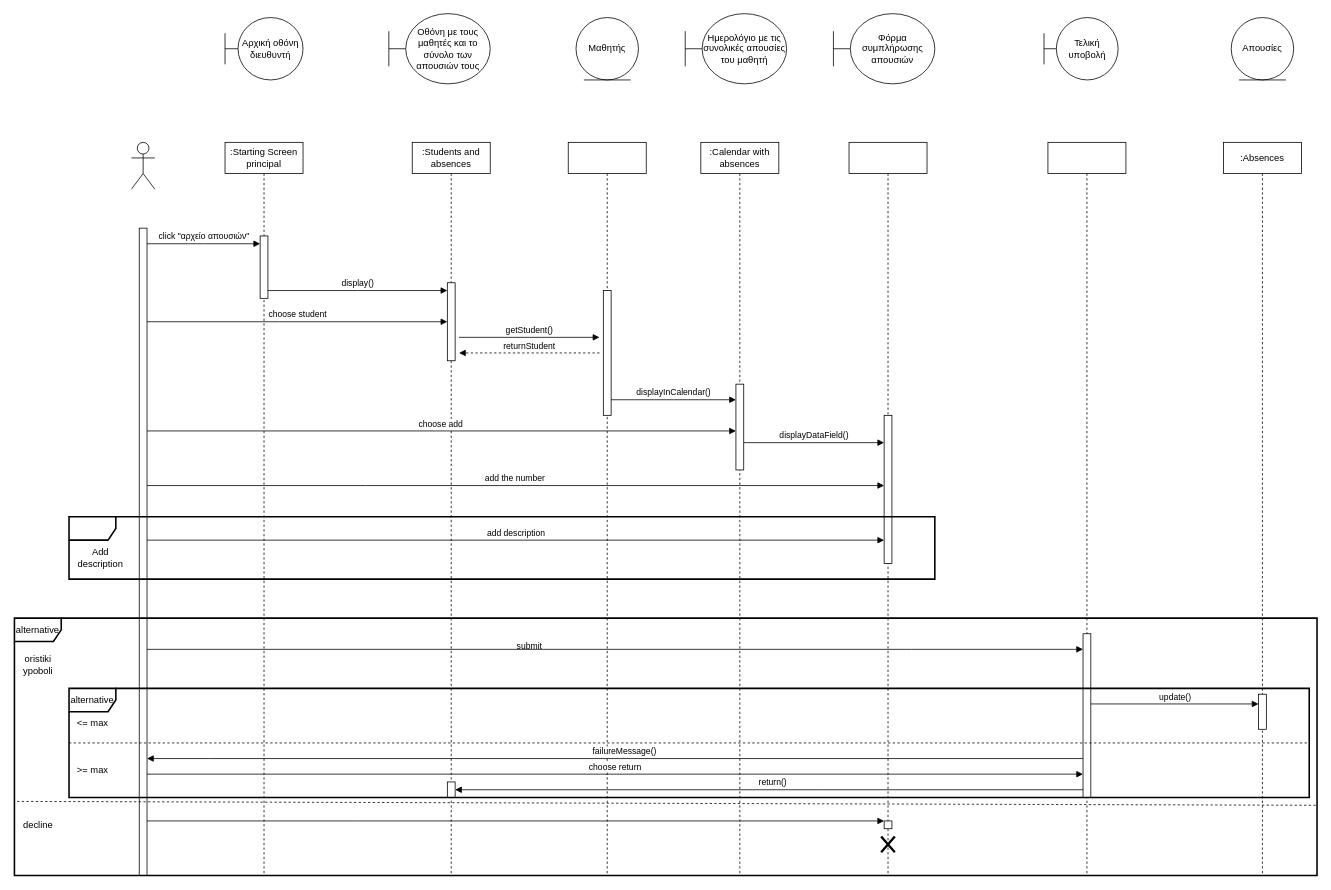
The diagram is 1331 pixels wide and 890 high, and some of its shapes have lost their labels. The box of each missing label's shape, as (x1, y1, x2, y2) in pixels:
:Final submit: (1047, 142, 1126, 876)
:Form of absence: (848, 142, 927, 876)
:Student: (567, 142, 646, 876)
optional: (68, 516, 935, 580)
Διευθυντής: (131, 142, 155, 189)
